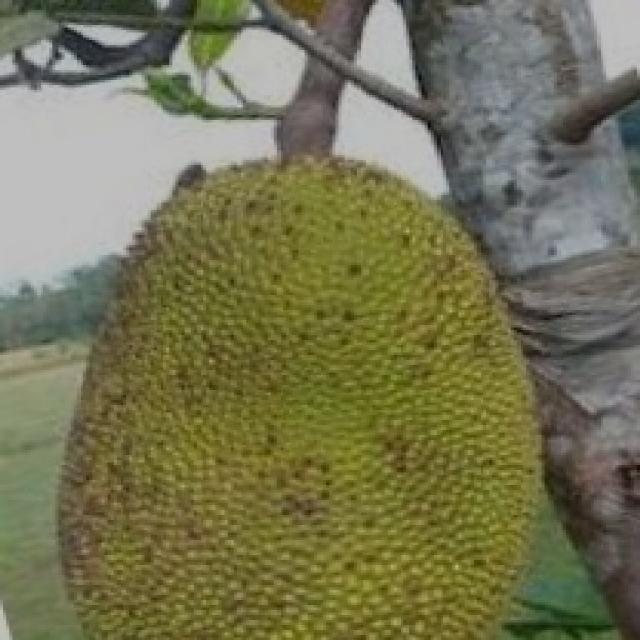Fruit: (270, 247, 603, 640)
